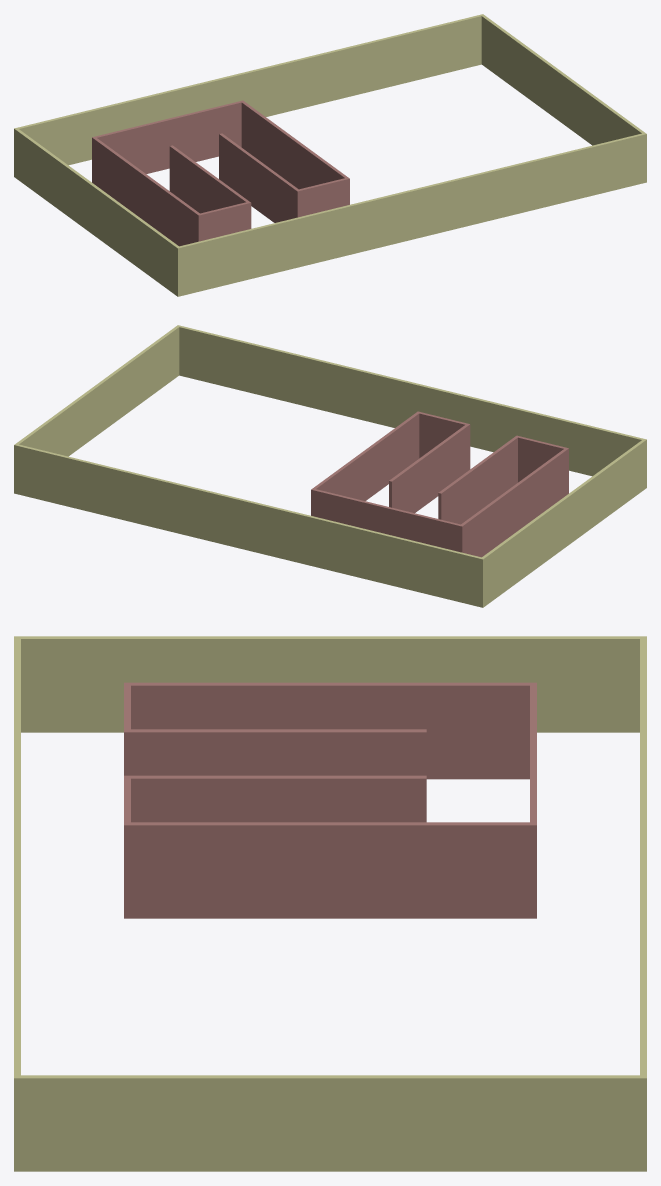
The model's file is depot_simple_18x30_v4.dae.
3 views of the same model, one above another, from view 1: azimuth 30°, elevation 25°; view 2: azimuth 150°, elevation 25°; view 3: azimuth 270°, elevation 25° (orthographic). The views are drawn at different scales.
Parts seen in each view (by area): view 1: node1, node0; view 2: node1, node0; view 3: node1, node0.
Boxes of the visible parts, x1,y1,x2,y2 form: node1: (14, 14, 646, 296); node0: (92, 100, 349, 246); node1: (14, 325, 646, 607); node0: (311, 411, 568, 557); node1: (14, 636, 646, 1171); node0: (124, 682, 536, 918).
Bounding box in the file's own units: 0.0304 × 0.0184 × 0.003.
